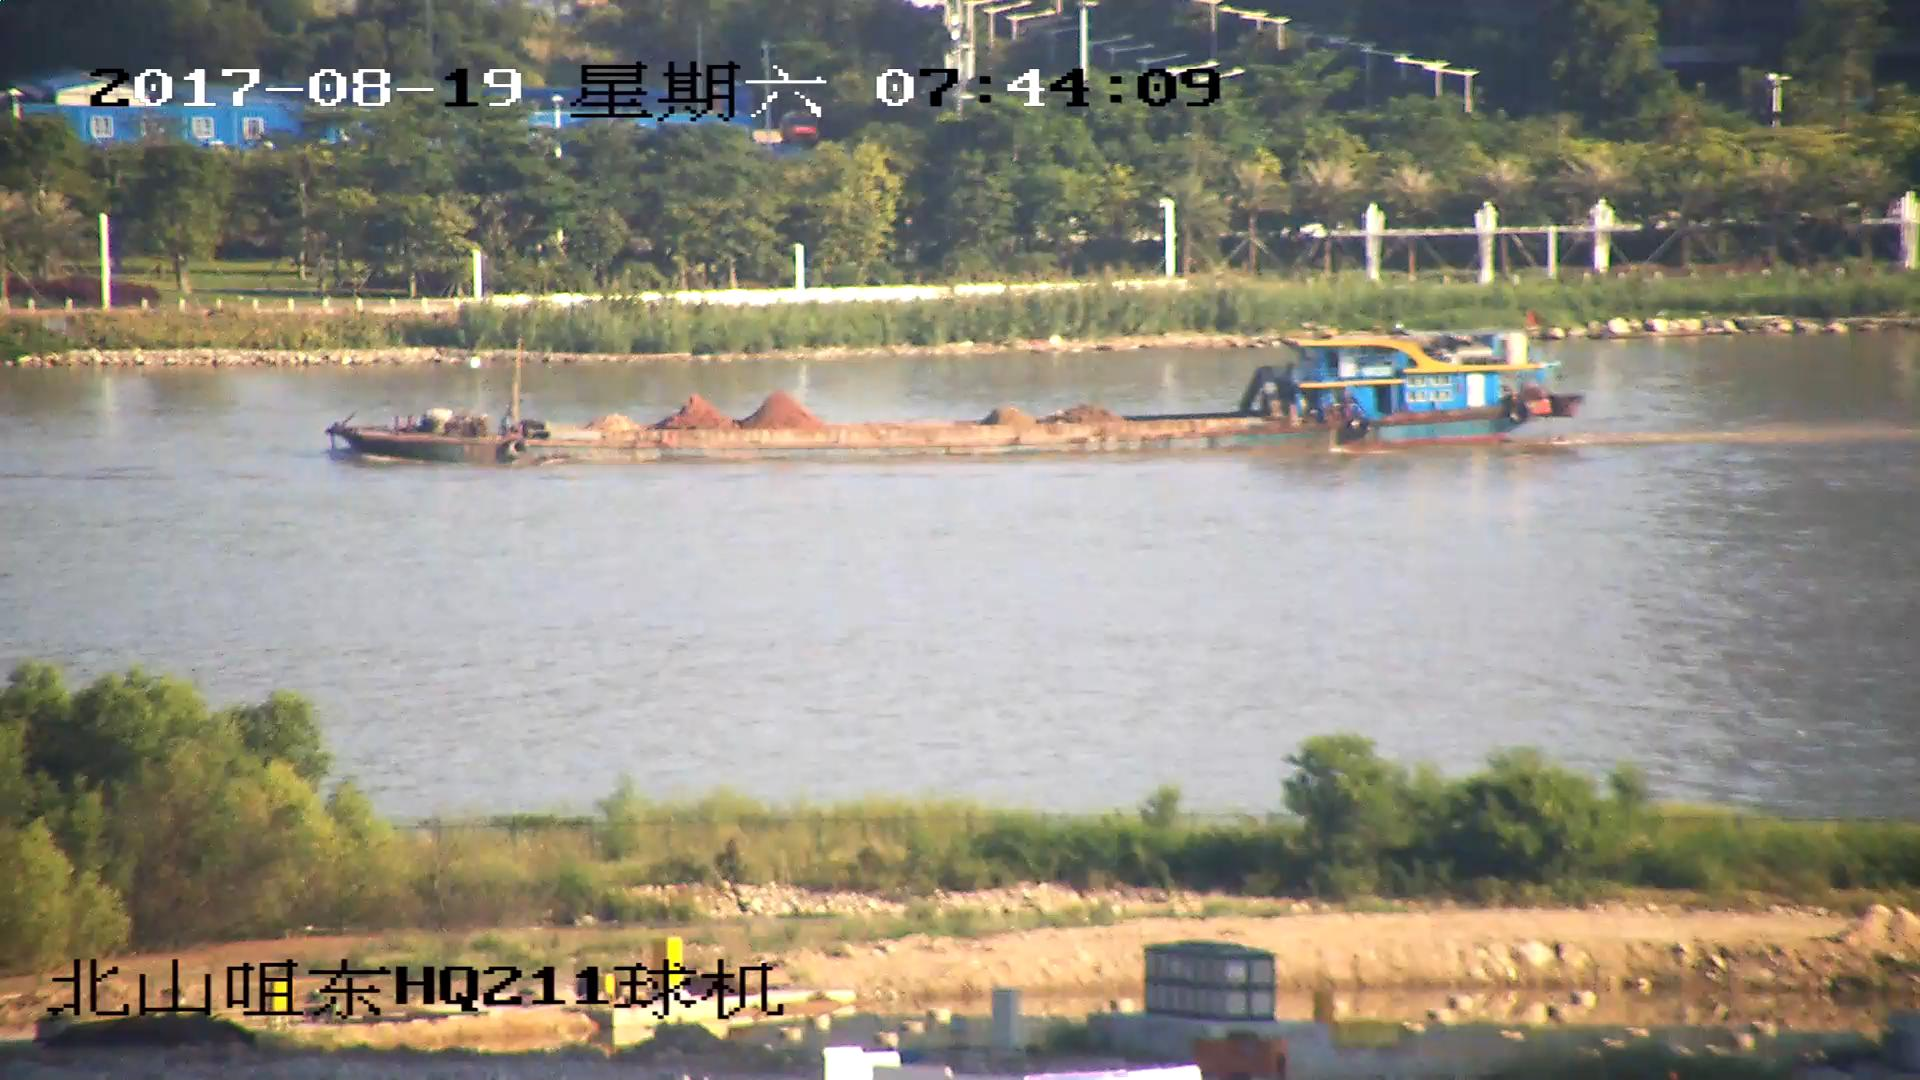ore carrier: (324, 315, 1588, 465)
